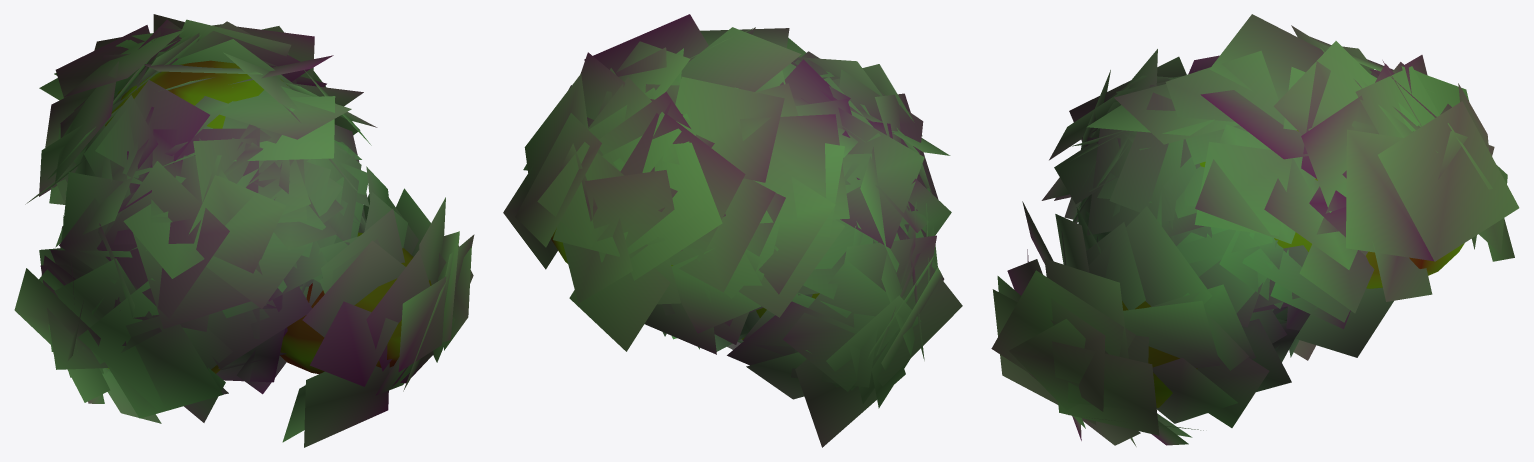
The model's file is bush_a.glb.
3 renders of one model, left to right at view 1: azimuth 30°, elevation 25°; view 2: azimuth 150°, elevation 25°; view 3: azimuth 270°, elevation 25°, orthographic. The views are drawn at different scales.
Parts seen in each view (by area): view 1: bush_a; view 2: bush_a; view 3: bush_a.
Boxes of the visible parts, left/top/right/bottom form: bush_a: left=14, top=14, right=474, bottom=447; bush_a: left=503, top=14, right=962, bottom=447; bush_a: left=991, top=14, right=1519, bottom=446.
Size of the model in its own units: 1.79 by 1.58 by 1.97.
